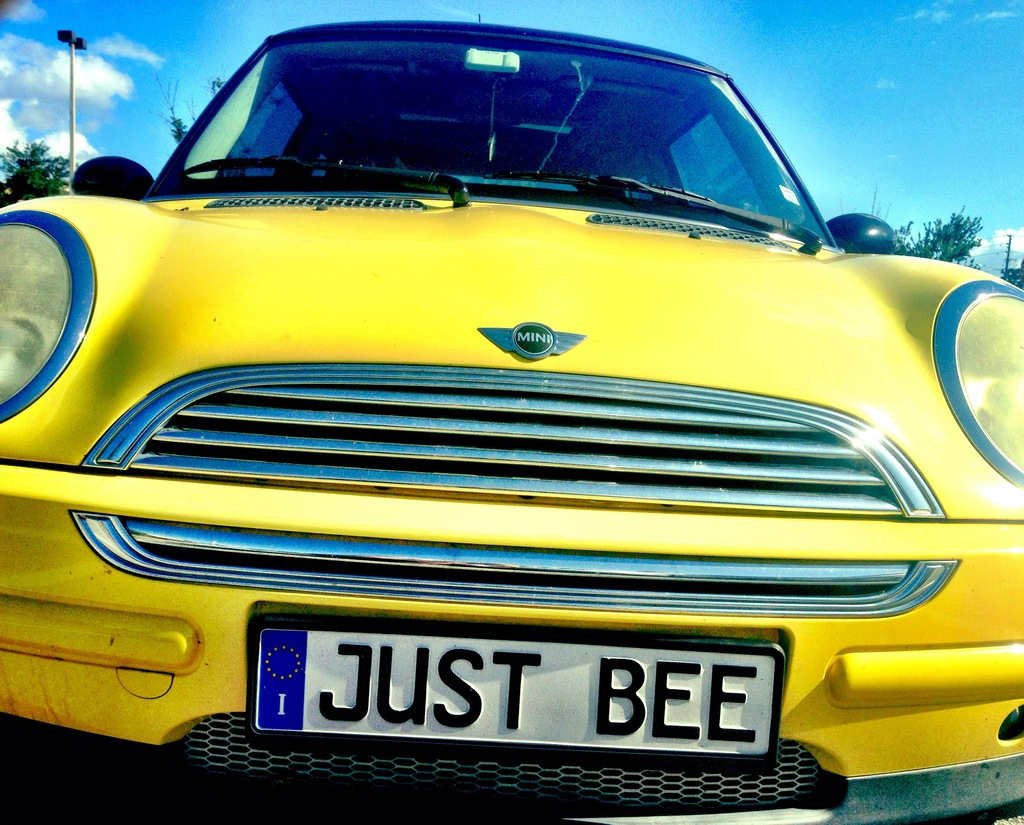Tree: (138, 73, 230, 144), (889, 205, 985, 271), (0, 139, 78, 207), (1001, 259, 1024, 292)
